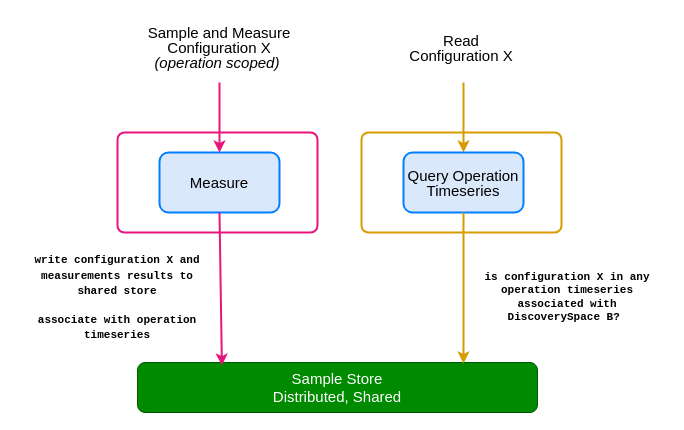
Image size: 684x430. Some labels were removed from this diagram. The shapes that lost their labels are listed below. From the top down, each one's box as (x1, y1, x2, y2) in pixels, then its label:
(116, 131, 318, 233): Discovery Space A
(360, 131, 562, 233): Discovery Space B
